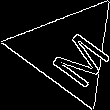M_NW: (31, 16, 105, 85)
